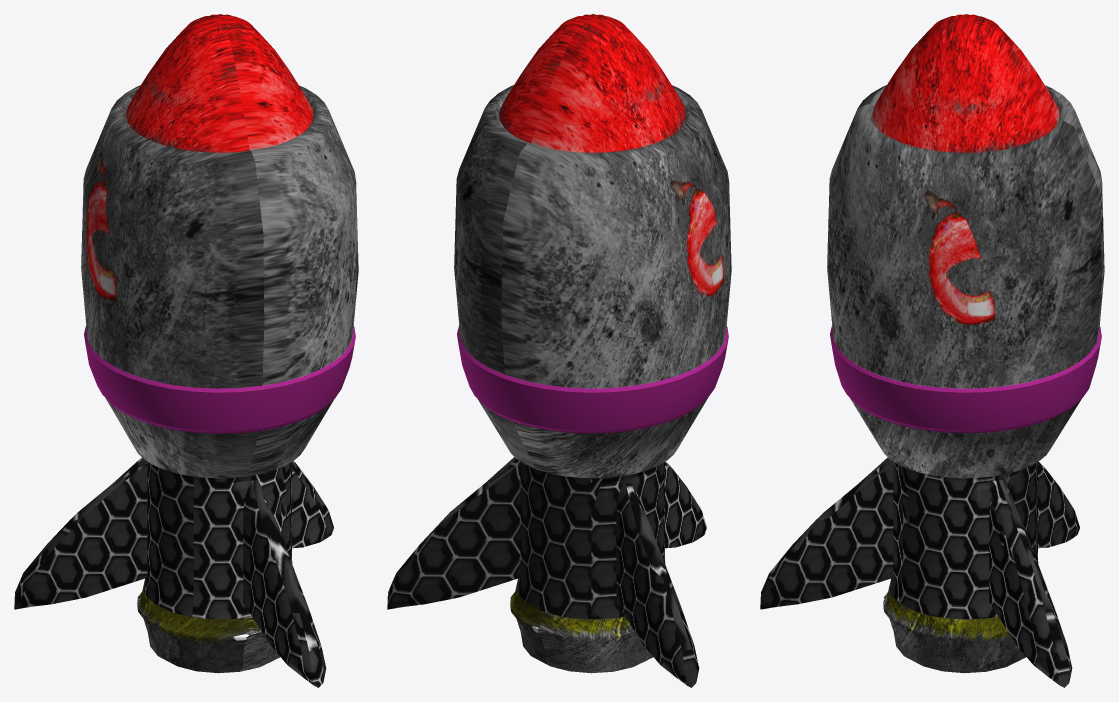
The model's file is missileTypeBTextured.FBX.
The picture shows the model from 3 angles, left to right: view 1: azimuth 30°, elevation 25°; view 2: azimuth 150°, elevation 25°; view 3: azimuth 270°, elevation 25°; orthographic projection.
Visible parts, largest first — view 1: missileType002; view 2: missileType002; view 3: missileType002.
Boxes of the visible parts, x1=… form: missileType002: x1=14, y1=14, x2=358, y2=687; missileType002: x1=387, y1=14, x2=731, y2=687; missileType002: x1=760, y1=14, x2=1104, y2=687.
Bounding box in the file's own units: 671 × 1282 × 639.
